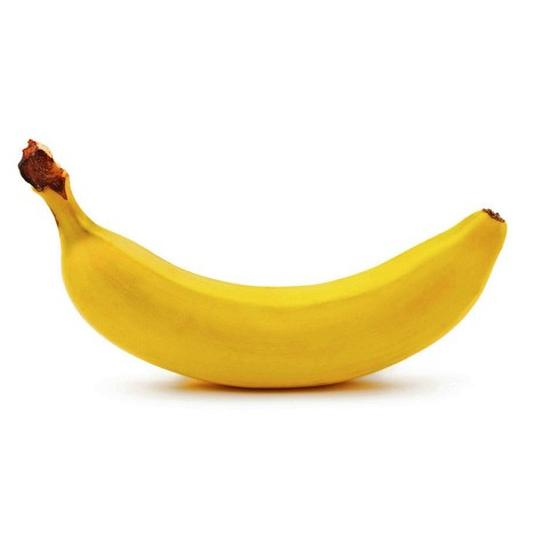banana: (21, 139, 511, 390)
